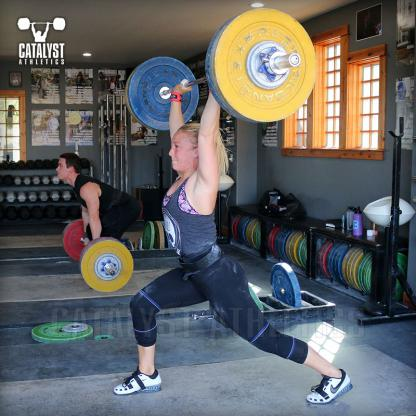Barbell: (202, 4, 330, 131), (121, 51, 202, 137), (74, 236, 135, 295)
